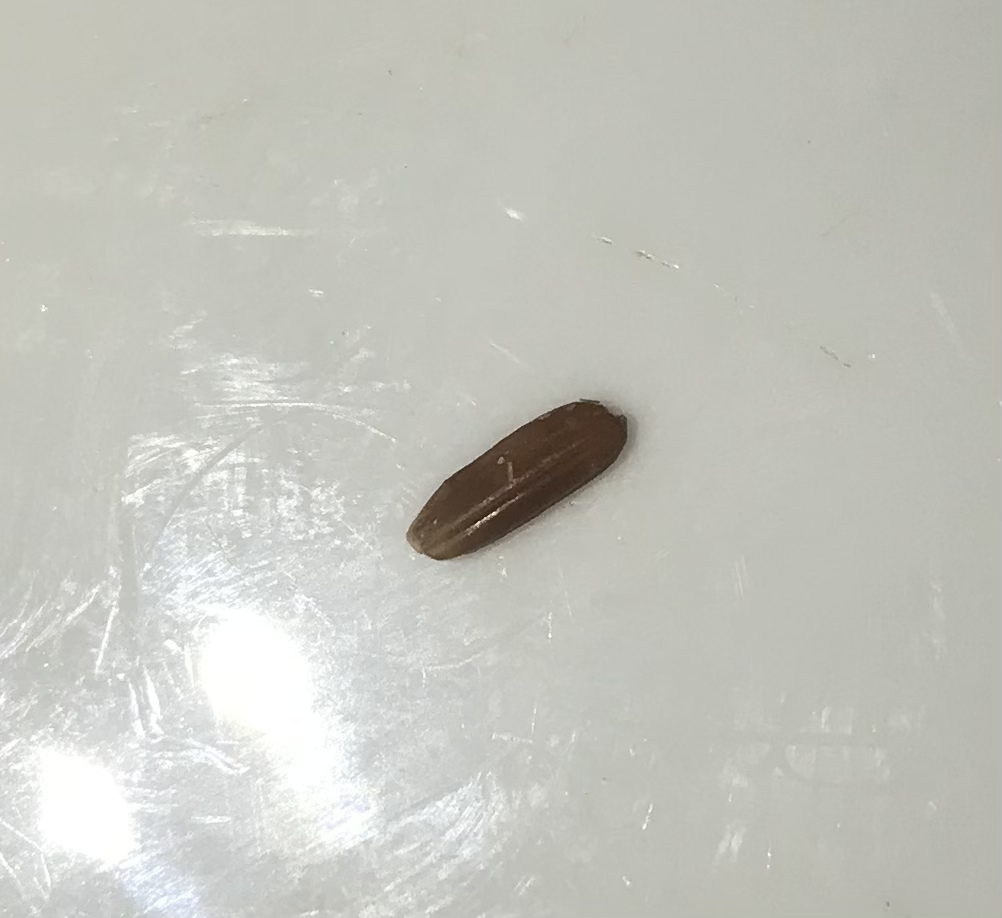Gao Lut Do: (403, 397, 636, 566)
